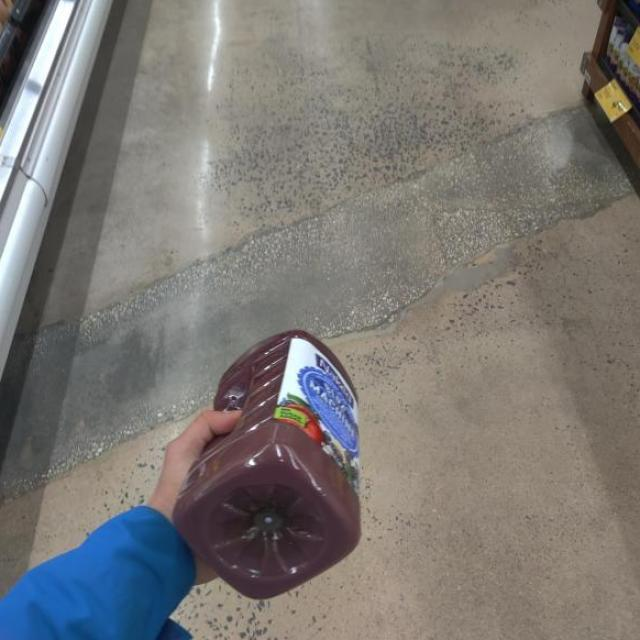Juice: (165, 323, 389, 600)
